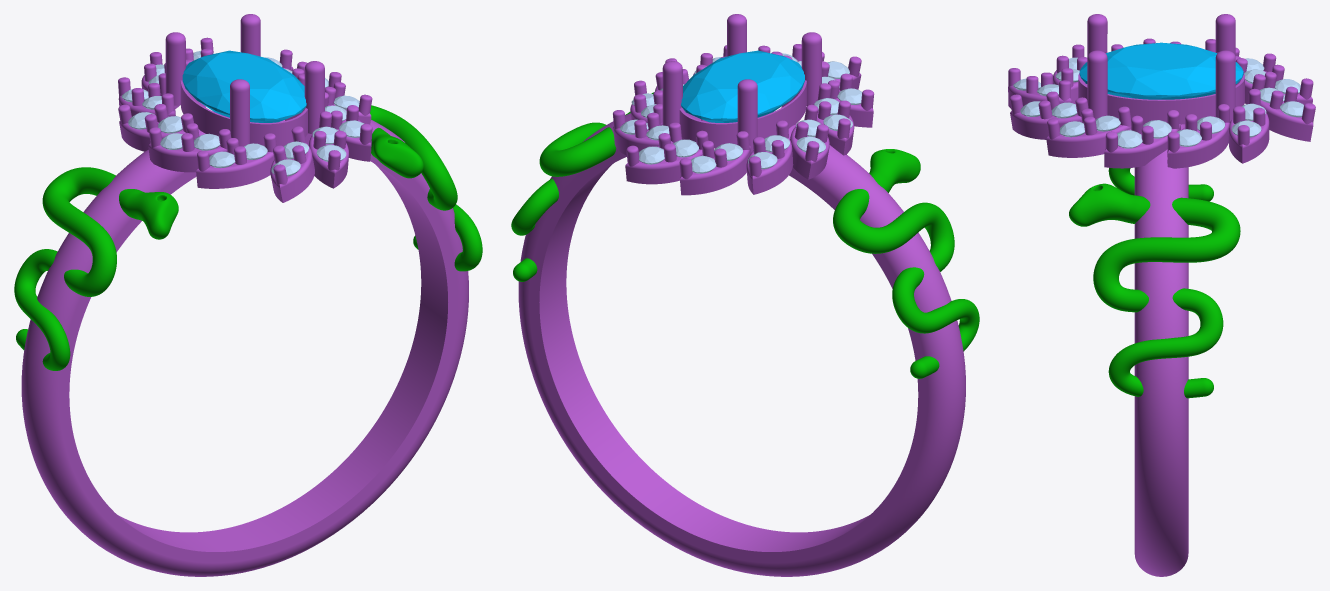
The picture shows the model from 3 angles, left to right: view 1: azimuth 30°, elevation 25°; view 2: azimuth 150°, elevation 25°; view 3: azimuth 270°, elevation 25°; orthographic projection.
Visible parts, largest first — view 1: Anel Cobra.3dm, COLOR= MATERIAL= (×2), GG_Oval; view 2: Anel Cobra.3dm, COLOR= MATERIAL= (×2), GG_Oval; view 3: Anel Cobra.3dm, COLOR= MATERIAL= (×2), GG_Oval, GG_Round.
Part boxes in pixels (x1,y1,x2,y2): Anel Cobra.3dm: (21, 14, 468, 576); COLOR= MATERIAL= (×2): (14, 105, 482, 370); GG_Oval: (182, 50, 306, 122); Anel Cobra.3dm: (518, 14, 965, 576); COLOR= MATERIAL= (×2): (511, 92, 979, 378); GG_Oval: (681, 50, 804, 122); Anel Cobra.3dm: (1008, 14, 1315, 576); COLOR= MATERIAL= (×2): (1069, 168, 1240, 398); GG_Oval: (1079, 42, 1243, 99); GG_Round: (1117, 130, 1142, 148).
Size of the model in its own units: 2.46 by 2.78 by 1.49.
